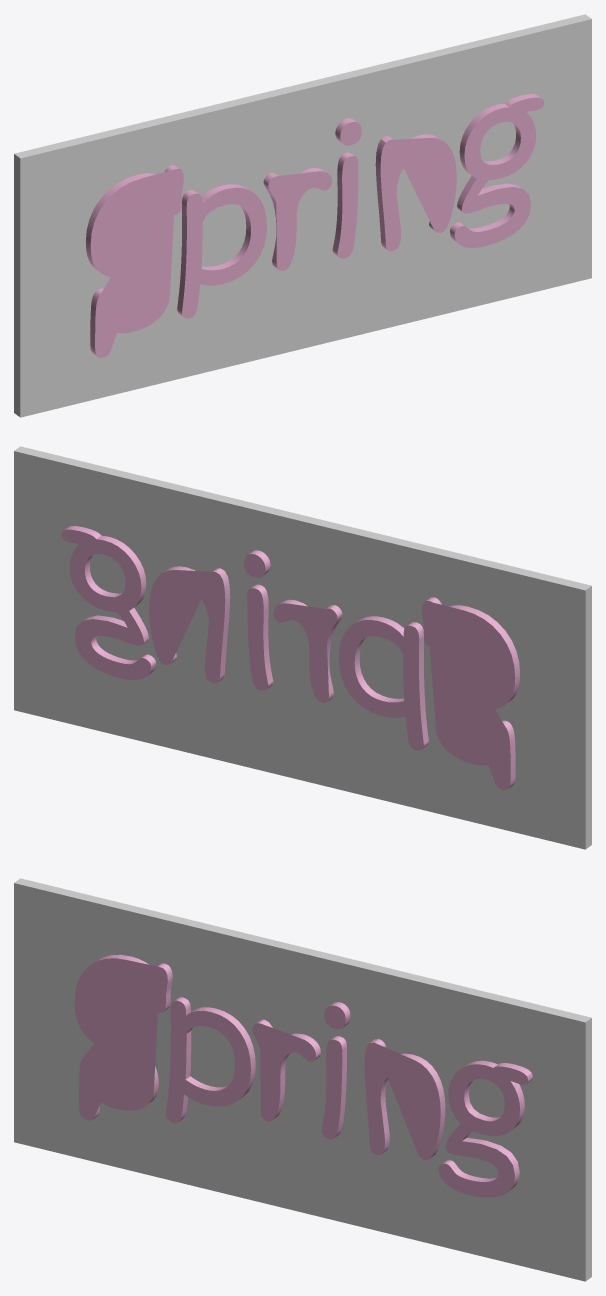
File: spring.fbx
3 views of the same model, one above another, from view 1: azimuth 30°, elevation 25°; view 2: azimuth 150°, elevation 25°; view 3: azimuth 330°, elevation 25° (orthographic).
Parts seen in each view (by area): view 1: pCube1, typeMesh1; view 2: pCube1, typeMesh1; view 3: pCube1, typeMesh1.
Boxes of the visible parts, box(x1,y1,x2,y2) form: pCube1: box(14, 14, 591, 417); typeMesh1: box(86, 94, 543, 357); pCube1: box(14, 446, 591, 849); typeMesh1: box(61, 526, 519, 789); pCube1: box(14, 878, 591, 1281); typeMesh1: box(74, 954, 532, 1197).
Bounding box in the file's own units: 50.78 × 22.01 × 2.5.
